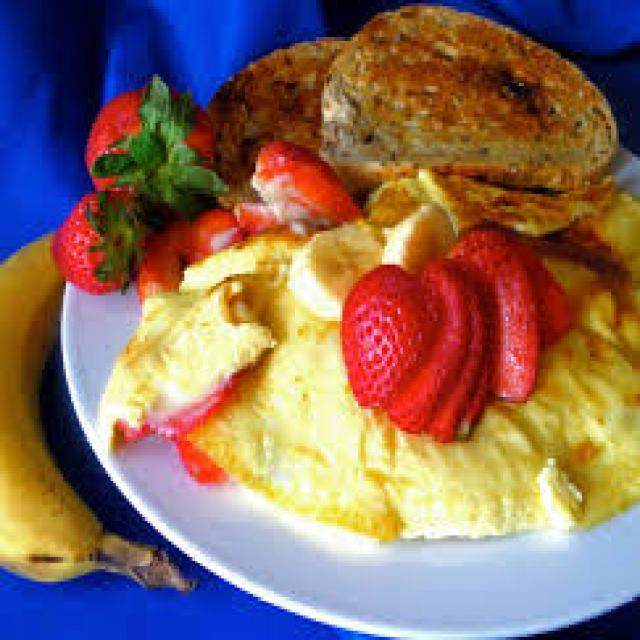Omelette: (90, 172, 638, 536)
